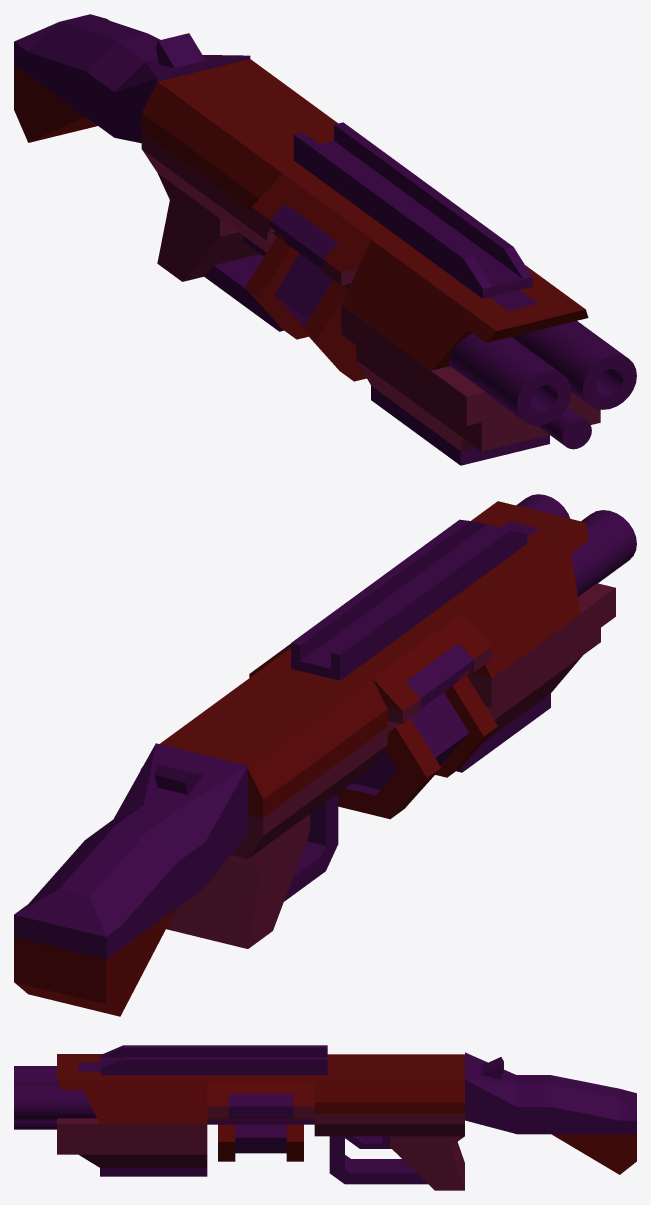
The model's file is shotgun.fbx.
The picture shows the model from 3 angles, top to bottom: view 1: azimuth 30°, elevation 25°; view 2: azimuth 150°, elevation 25°; view 3: azimuth 270°, elevation 25°; orthographic projection. The views are drawn at different scales.
Visible parts, largest first — view 1: mergedBlocks; view 2: mergedBlocks; view 3: mergedBlocks.
Part boxes in pixels (bbox=[...]): mergedBlocks: bbox=[14, 14, 636, 465]; mergedBlocks: bbox=[14, 494, 636, 1016]; mergedBlocks: bbox=[14, 1045, 636, 1190].
Size of the model in its own units: 1.65 by 1.92 by 8.7.
